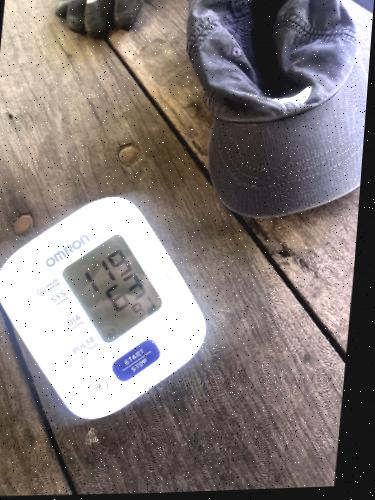bpm: (57, 231, 167, 346)
